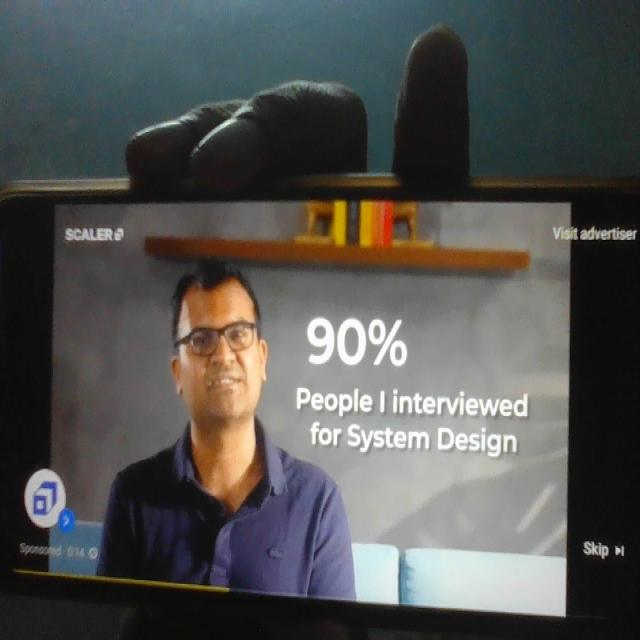fake: (165, 238, 277, 450)
